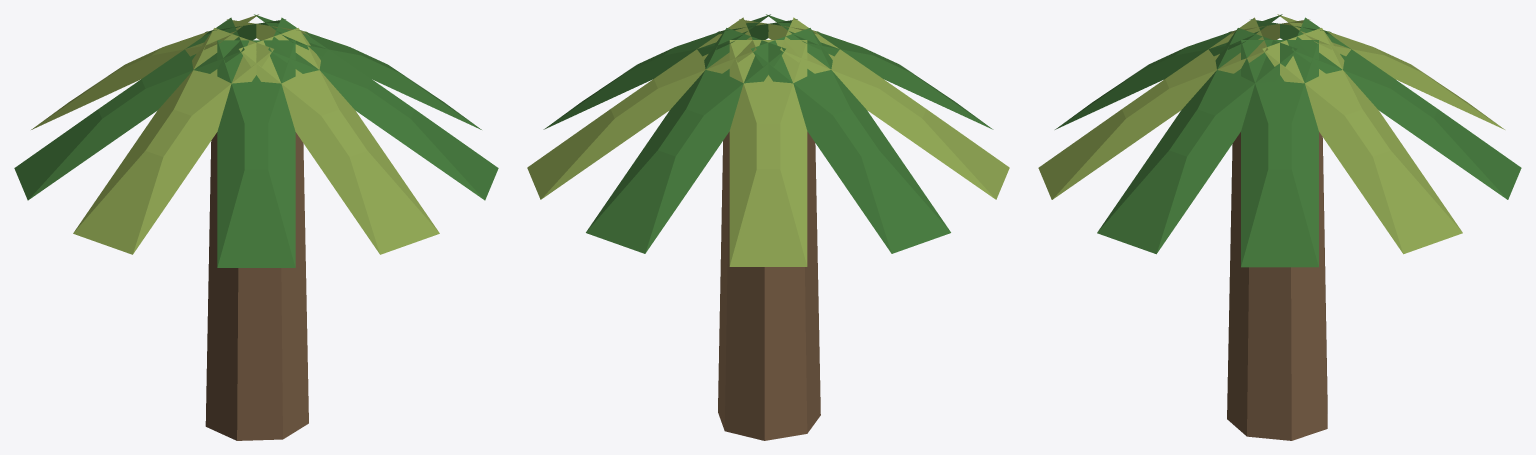
Rendered from VG_Tree_PalmShort.fbx.
3 renders of one model, left to right at view 1: azimuth 30°, elevation 25°; view 2: azimuth 150°, elevation 25°; view 3: azimuth 270°, elevation 25°, orthographic.
Parts seen in each view (by area): view 1: VG_Tree_PalmShort_Mesh; view 2: VG_Tree_PalmShort_Mesh; view 3: VG_Tree_PalmShort_Mesh.
Part boxes in pixels (x1,y1,x2,y2): VG_Tree_PalmShort_Mesh: [14, 14, 498, 440]; VG_Tree_PalmShort_Mesh: [527, 14, 1009, 440]; VG_Tree_PalmShort_Mesh: [1038, 14, 1521, 440].
Bounding box in the file's own units: 3.05 × 2.74 × 3.1.
